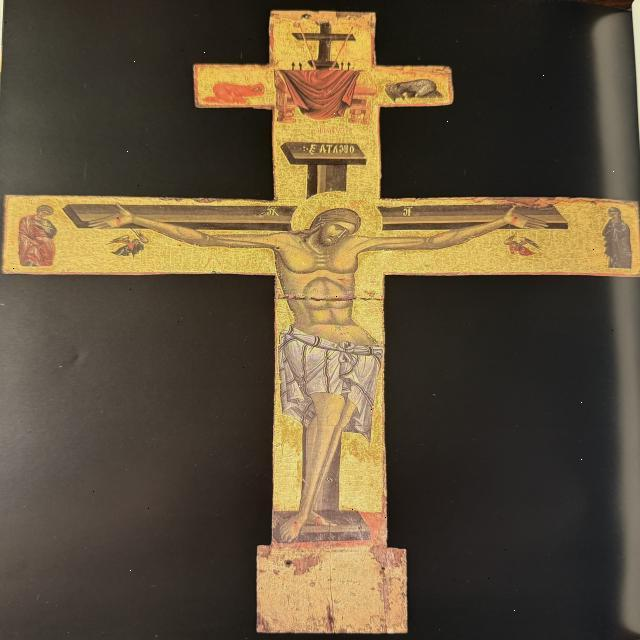aura: (287, 192, 382, 254)
christ_crucifiction: (2, 9, 632, 640)
